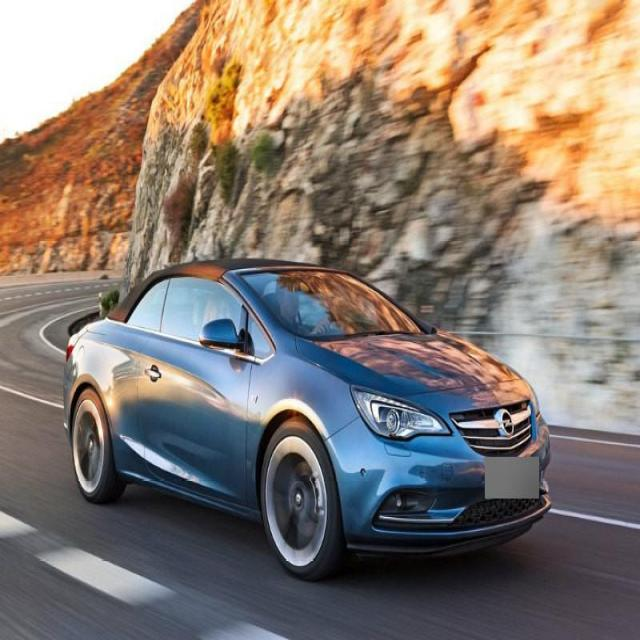back_right_side_light: (63, 329, 83, 363)
front_bumper: (321, 414, 553, 553)
front_glass: (235, 268, 423, 336)
front_right_side_door: (136, 270, 253, 514)
front_right_side_light: (349, 379, 450, 446)
front_right_side_mirror: (198, 314, 243, 356)
wheel: (260, 420, 338, 575), (71, 385, 121, 503)
